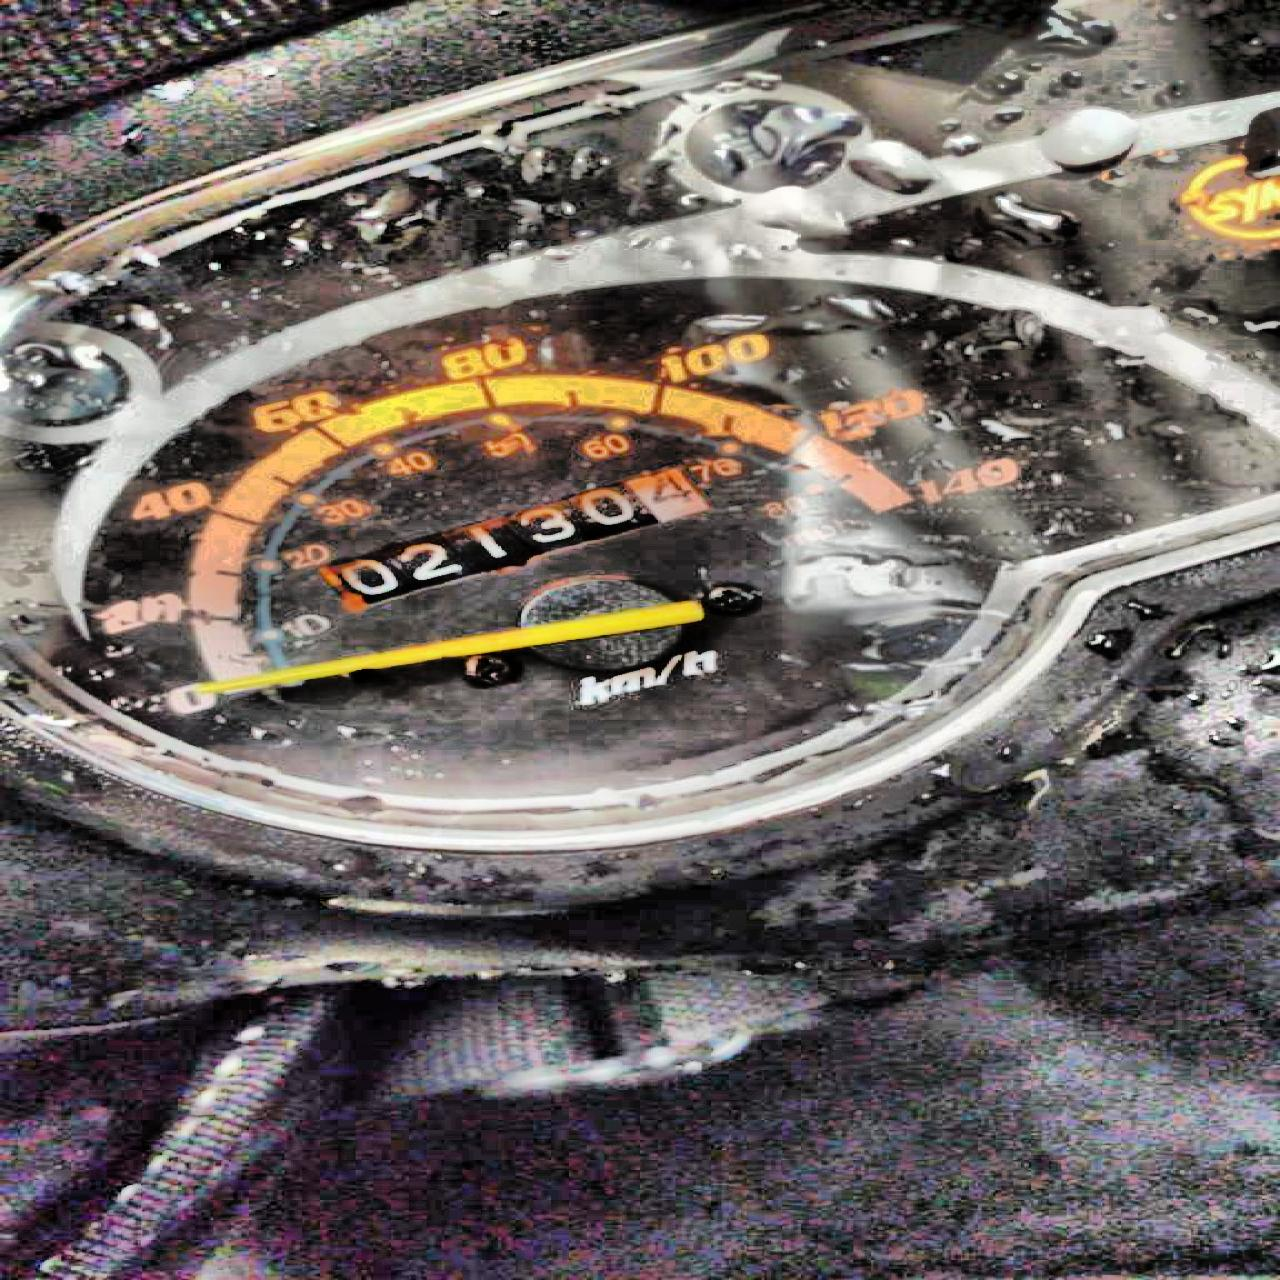0: (338, 558, 399, 598), (573, 485, 635, 524), (335, 497, 365, 517), (305, 543, 328, 563)
1: (459, 519, 509, 560)
2: (394, 543, 464, 581)
3: (516, 504, 573, 542), (313, 503, 342, 524)
4: (645, 474, 697, 509), (387, 456, 411, 475)
7: (687, 464, 709, 482)
odometer: (306, 463, 715, 617)
